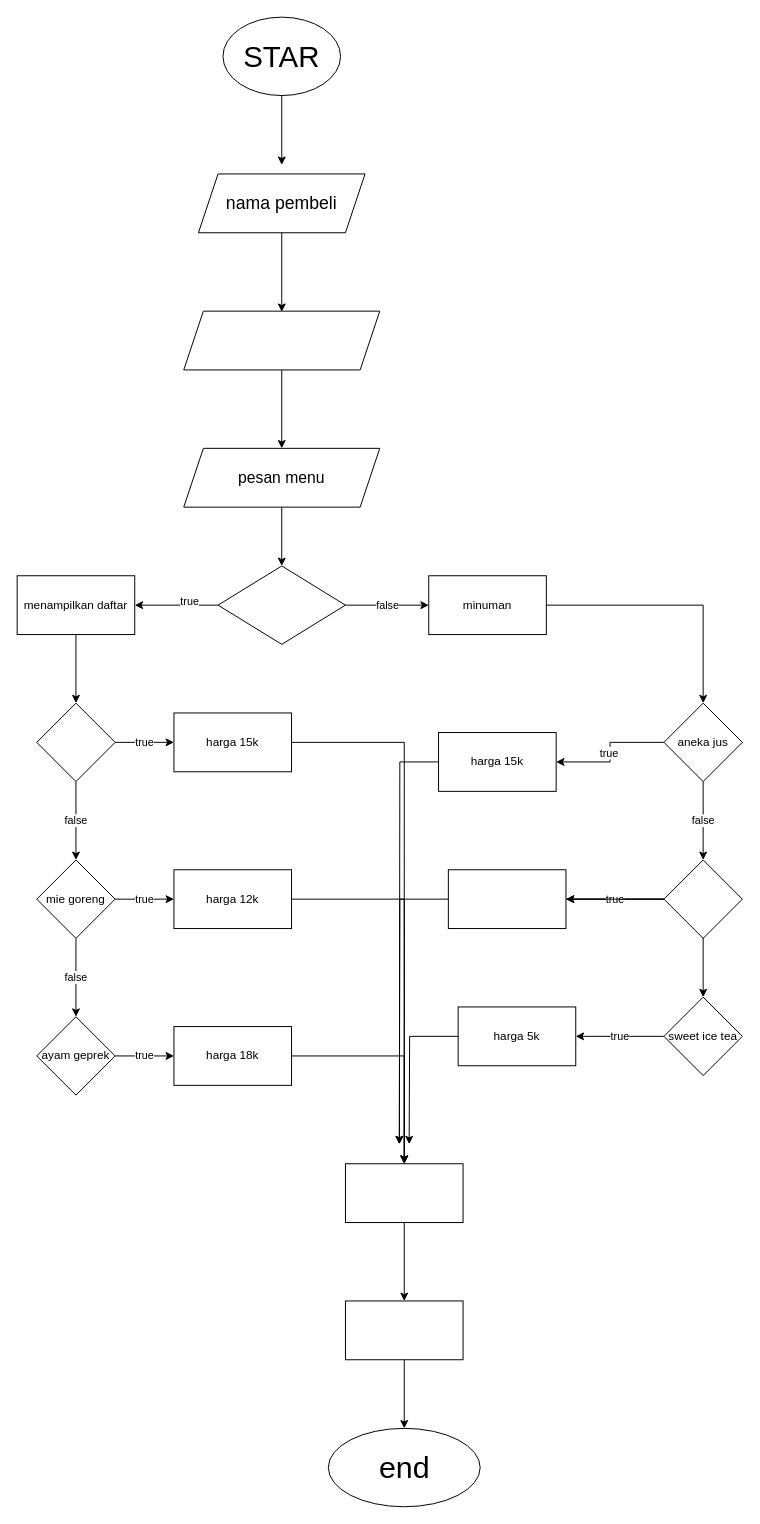
The diagram is 760 pixels wide and 1524 high, and some of its shapes have lost their labels. The box of each missing label's shape, as (x1, y1, x2, y2) in pixels:
harga 10k: (447, 869, 566, 929)
jumlah pesana: (344, 1163, 463, 1223)
jumlah pesana harga: (344, 1300, 463, 1360)
makanan: (217, 565, 345, 644)
nasi goreng: (36, 702, 115, 782)
no hp pembeli: (183, 310, 380, 370)
soft drink: (663, 859, 742, 938)
